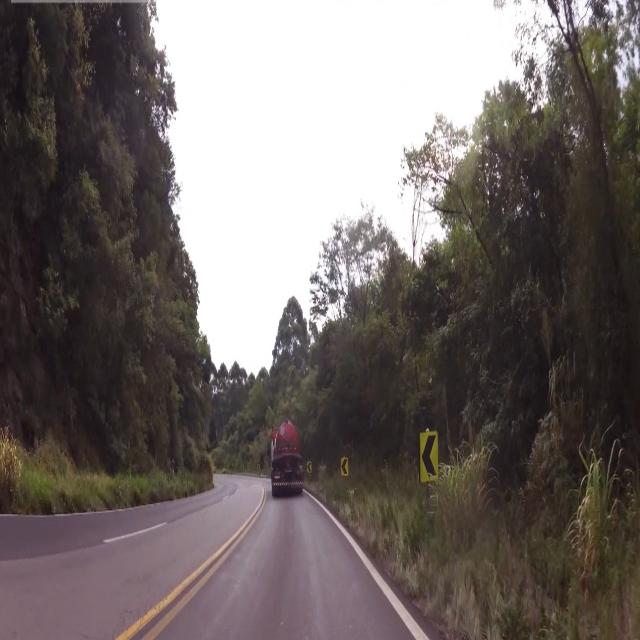Del: (418, 428, 443, 488)
